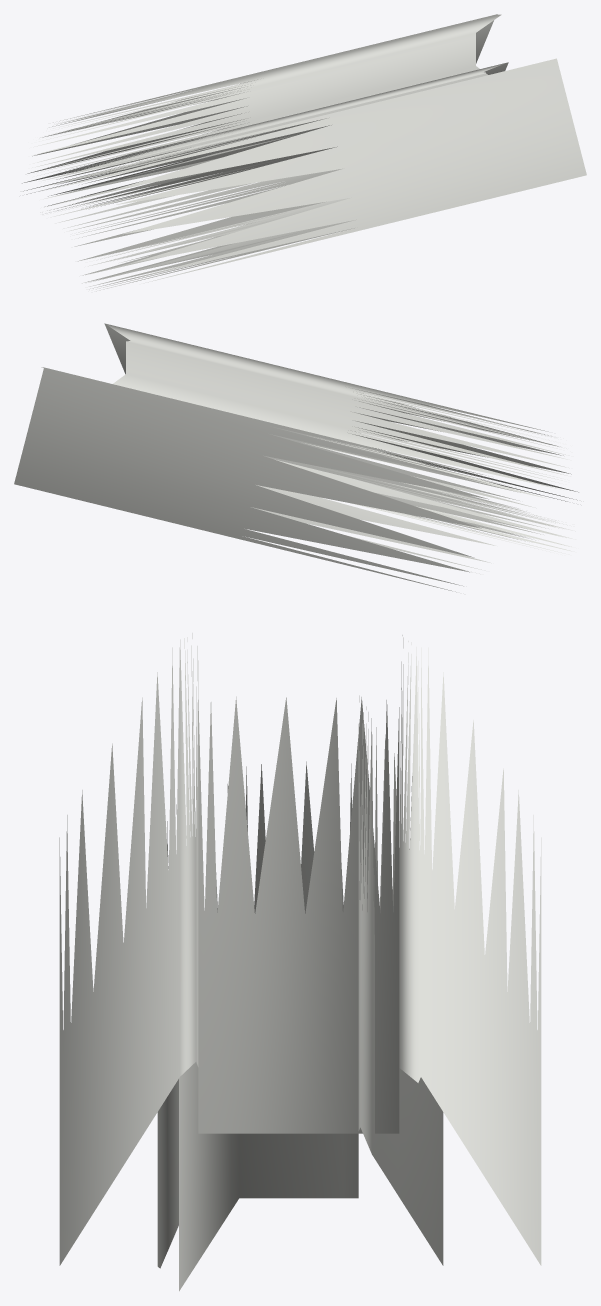
File: iss-truss-s5.glb
3 renders of one model, top to bottom at view 1: azimuth 30°, elevation 25°; view 2: azimuth 150°, elevation 25°; view 3: azimuth 270°, elevation 25°, orthographic. The views are drawn at different scales.
Parts seen in each view (by area): view 1: truss-s5; view 2: truss-s5; view 3: truss-s5.
Boxes of the visible parts, x1,y1,x2,y2 form: truss-s5: (22, 14, 586, 291); truss-s5: (14, 323, 578, 592); truss-s5: (59, 633, 541, 1291).
Size of the model in its own units: 6.81 by 1.63 by 2.95.
1 material, 1 textured.
